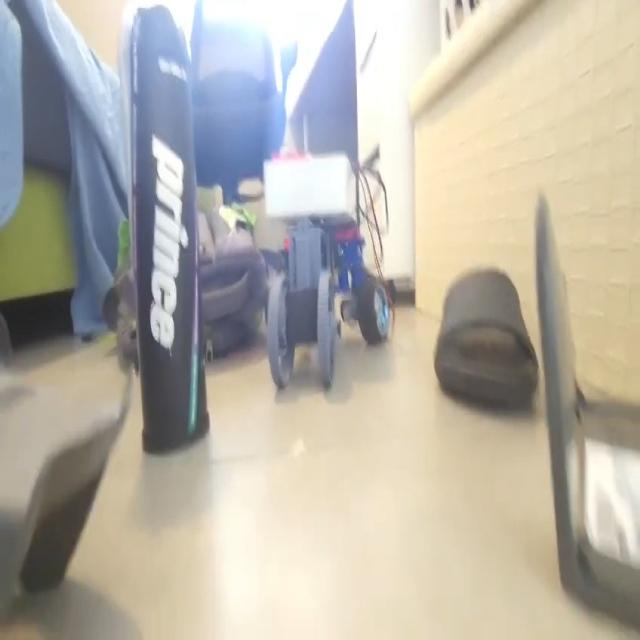Robot: (262, 147, 388, 389)
